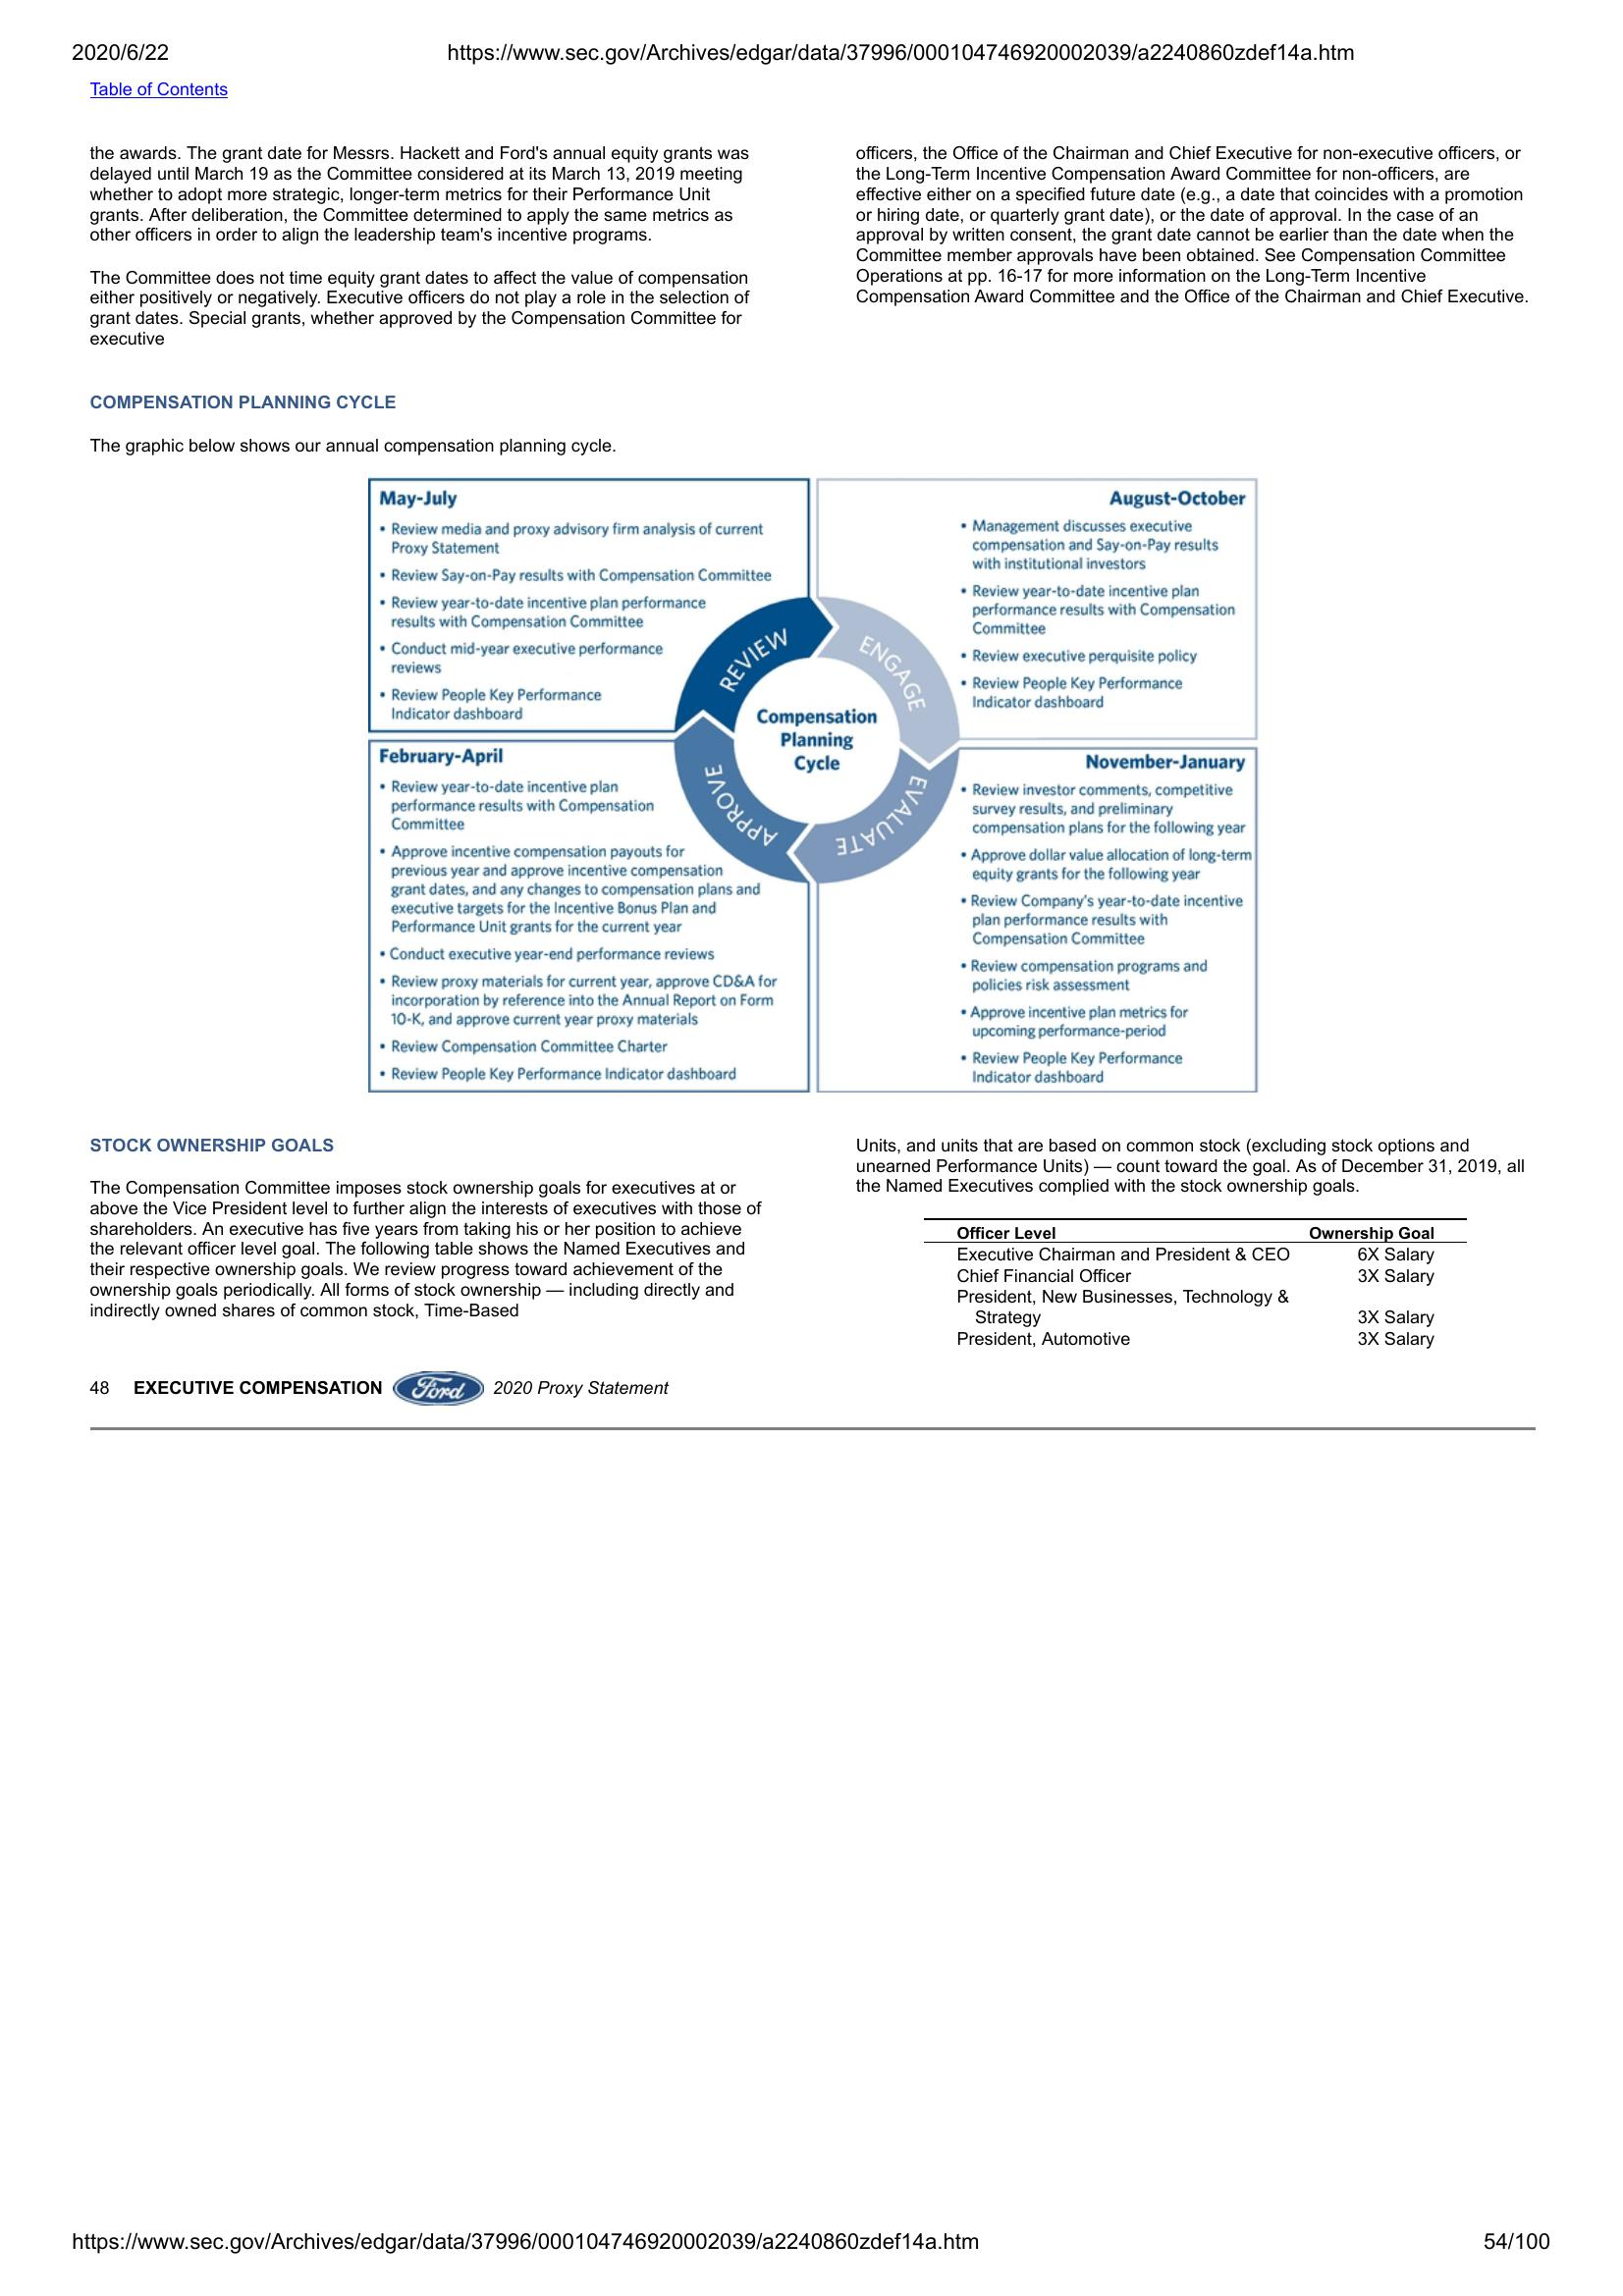table: (920, 1213, 1474, 1350)
